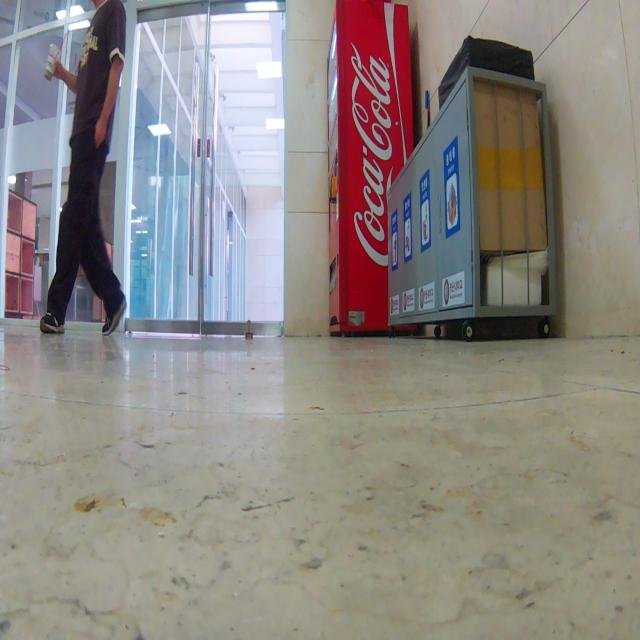target: (245, 319, 253, 341)
